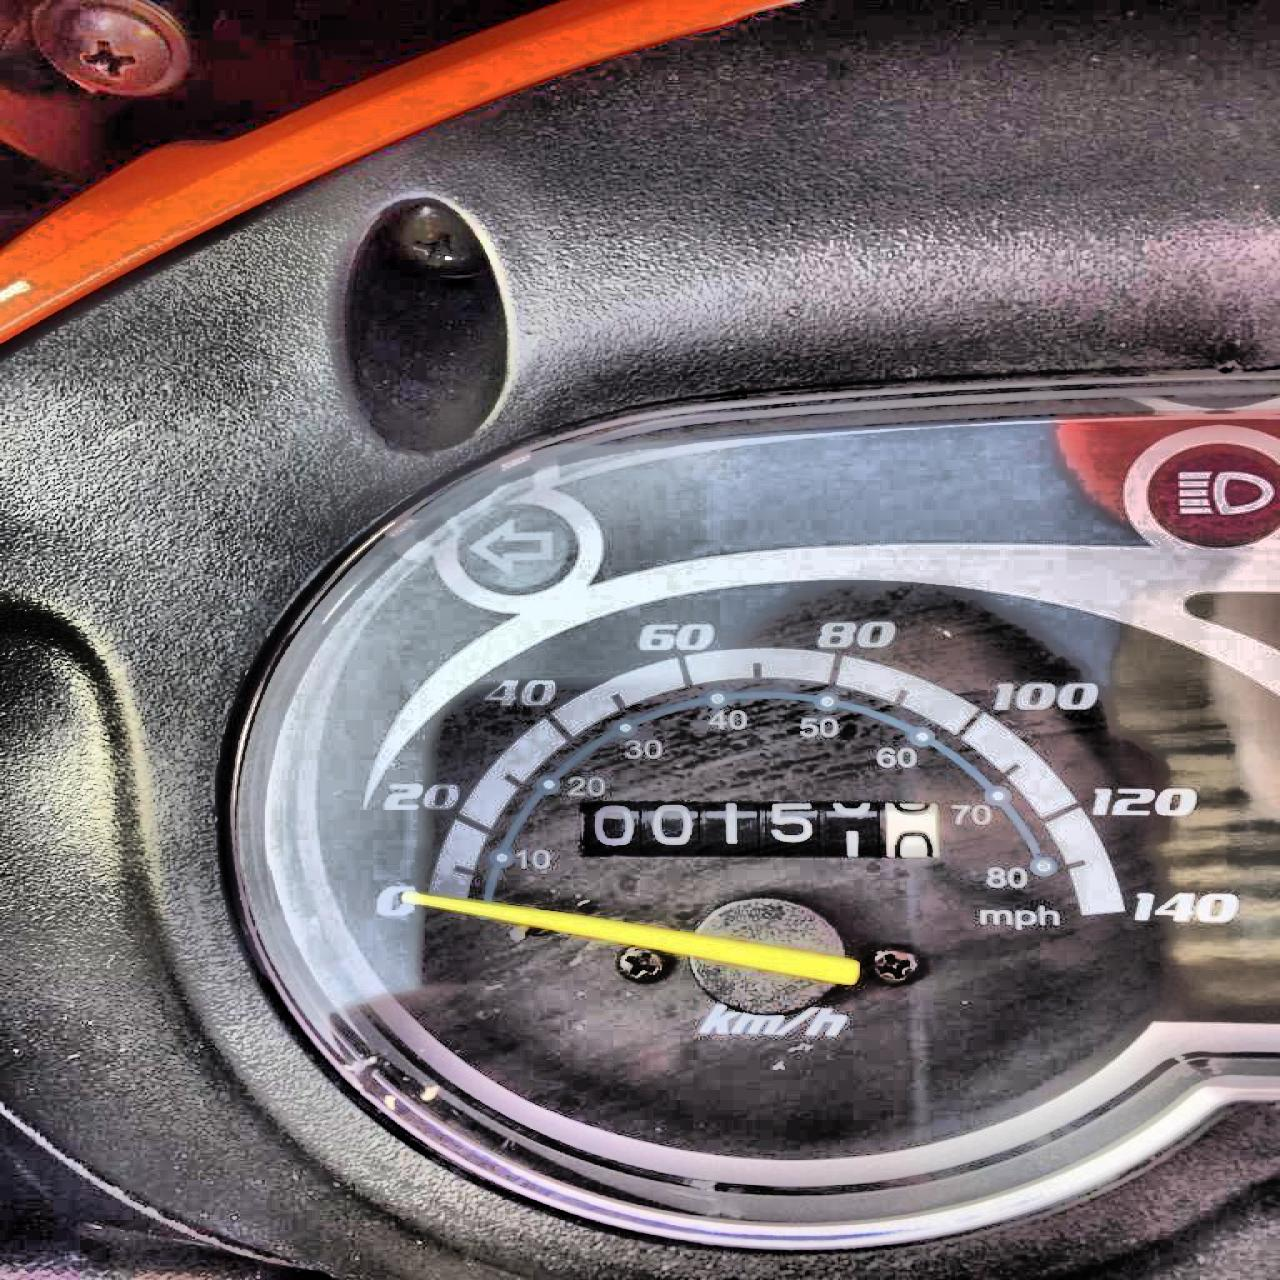0: (647, 802, 695, 846), (592, 803, 636, 846), (885, 825, 938, 859)
1: (713, 797, 744, 846), (835, 824, 863, 860)
5: (765, 797, 815, 844)
odometer: (572, 794, 945, 862)
